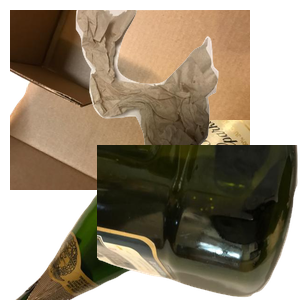cardboard: (10, 10, 250, 190)
glass: (13, 120, 253, 300)
plastic: (97, 145, 300, 300)
trash: (73, 10, 300, 163)
